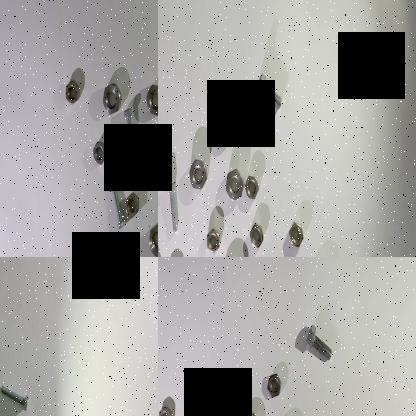Bolts: (252, 65, 284, 115), (301, 321, 335, 363), (0, 379, 32, 416), (108, 176, 126, 230), (122, 102, 138, 160), (164, 180, 178, 238)
NUTS: (100, 78, 121, 116), (188, 156, 208, 194), (223, 168, 244, 204), (144, 75, 158, 119), (247, 219, 265, 252), (264, 371, 284, 399), (204, 224, 223, 252), (244, 170, 260, 202), (62, 77, 80, 105), (145, 219, 158, 257), (215, 116, 230, 148), (124, 188, 140, 216), (92, 138, 108, 166), (288, 221, 304, 249), (158, 397, 174, 416), (194, 405, 214, 416), (158, 154, 163, 190)
